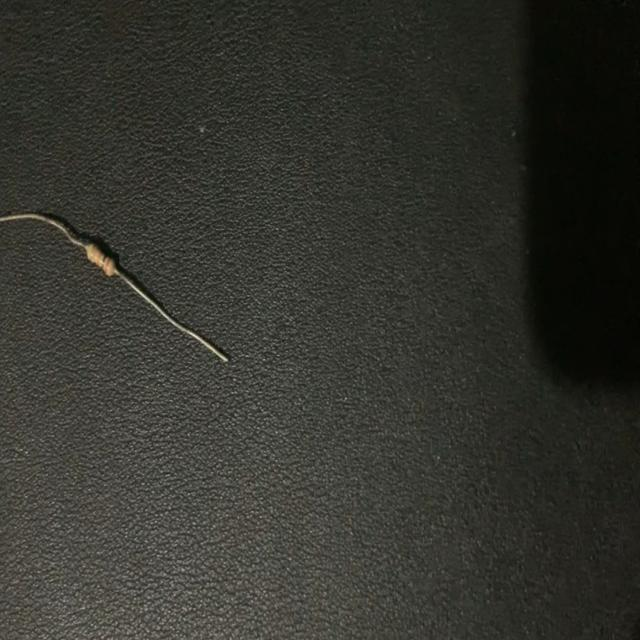resistor: (0, 212, 229, 363)
